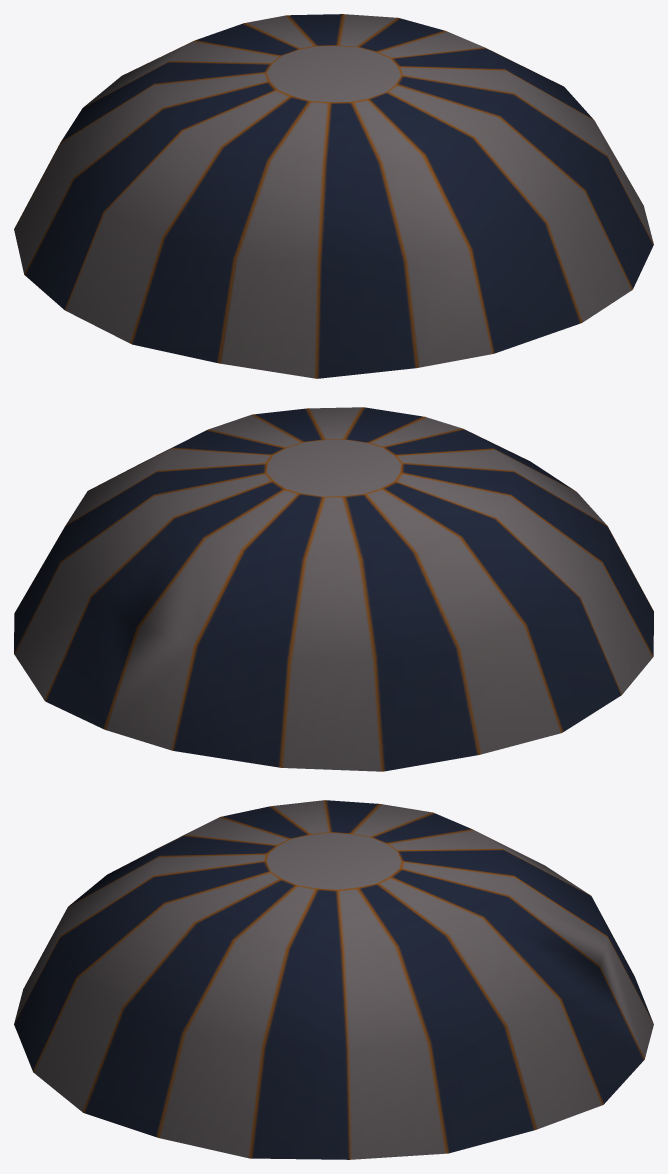
File: circus_roof 1.fbx
3 renders of one model, top to bottom at view 1: azimuth 30°, elevation 25°; view 2: azimuth 150°, elevation 25°; view 3: azimuth 270°, elevation 25°, orthographic.
Parts seen in each view (by area): view 1: Circus_Roof; view 2: Circus_Roof; view 3: Circus_Roof.
Part boxes in pixels (left/top/right/bottom): Circus_Roof: left=14, top=14, right=653, bottom=378; Circus_Roof: left=14, top=407, right=653, bottom=771; Circus_Roof: left=14, top=800, right=653, bottom=1159.
Bounding box in the file's own units: 27.65 × 8.18 × 27.6.
1 material, 1 textured.
